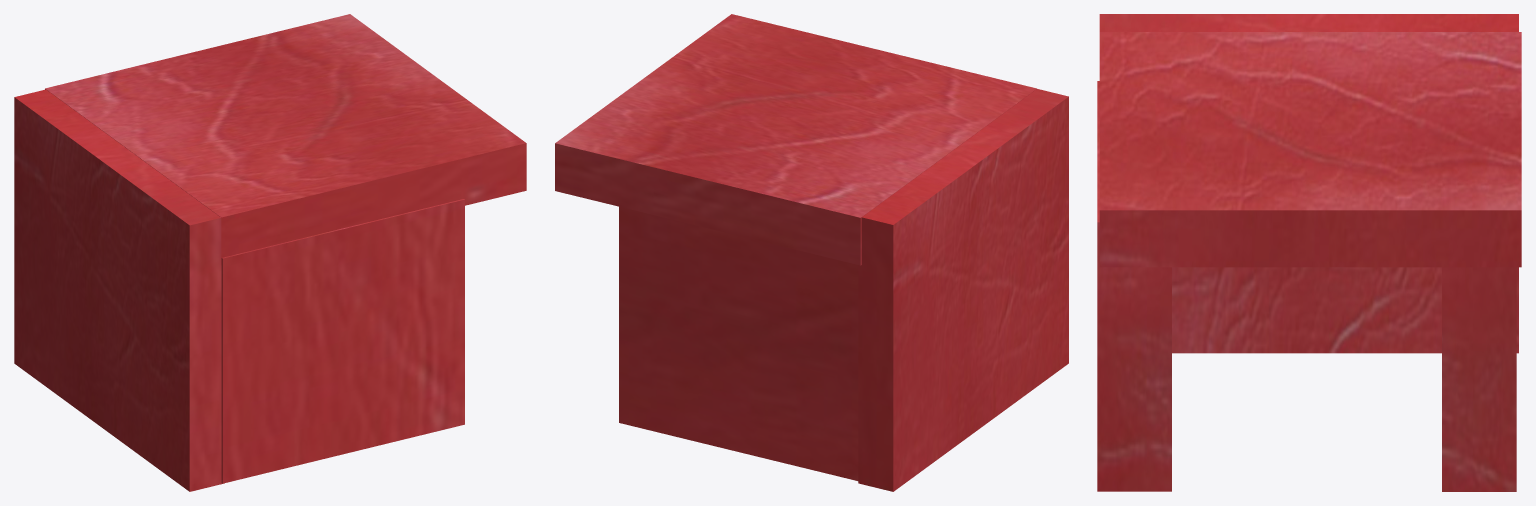
File: red.dae
The picture shows the model from 3 angles, left to right: view 1: azimuth 30°, elevation 25°; view 2: azimuth 150°, elevation 25°; view 3: azimuth 270°, elevation 25°; orthographic projection. The views are drawn at different scales.
Parts seen in each view (by area): view 1: Cube_002; view 2: Cube_002; view 3: Cube_002.
Part boxes in pixels (bbox=[...]): Cube_002: bbox=[14, 14, 526, 491]; Cube_002: bbox=[555, 14, 1068, 491]; Cube_002: bbox=[1097, 14, 1521, 491].
Size of the model in its own units: 0.2594 by 0.2366 by 0.1964.
Materials: 1 (1 with a texture image).
